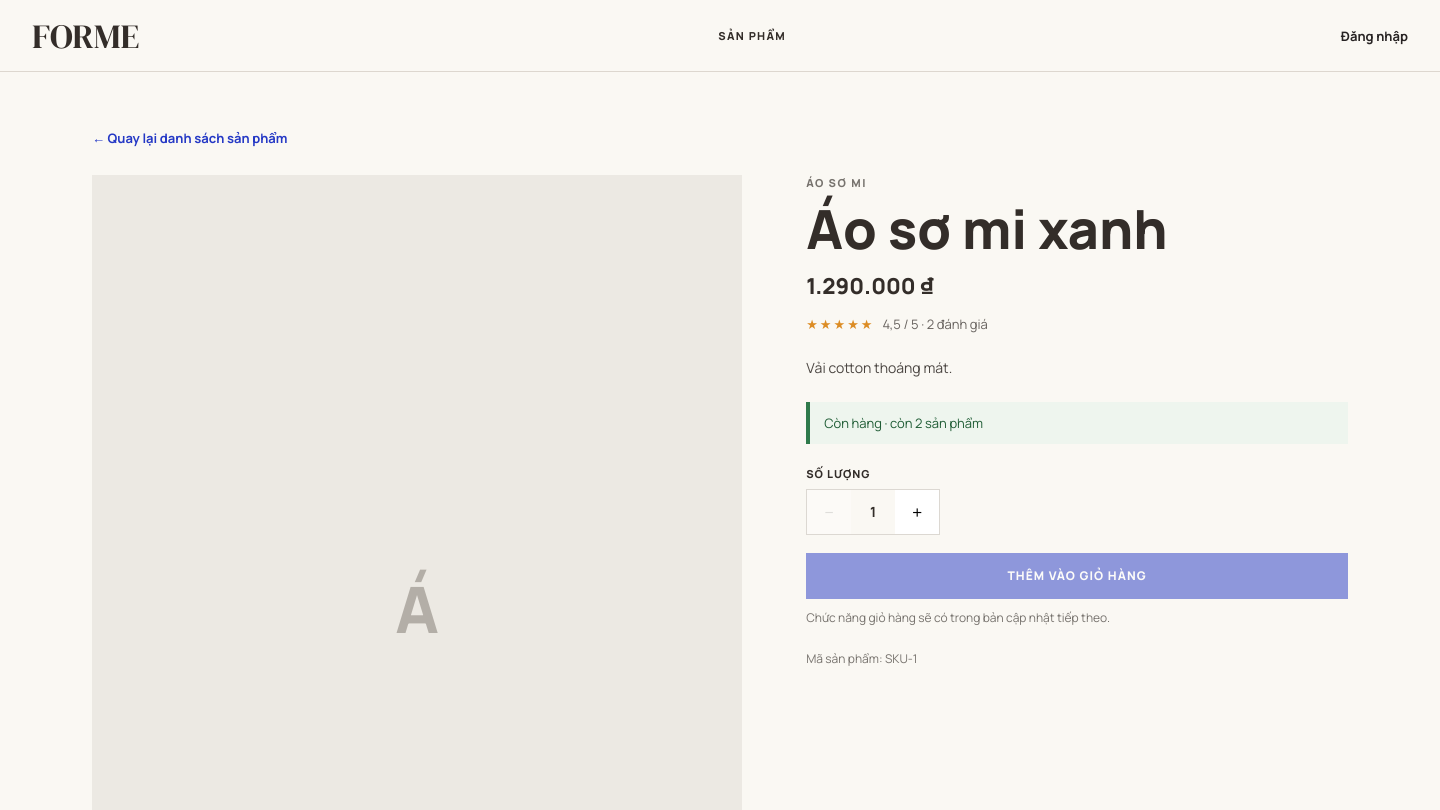
Test: ProductDetailPage › limits the quantity to available stock
The image size is (1440, 810).
What coordinates should you click on to do the following:
click the button named "Tăng số lượng"
I would click on:
 (917, 512)
Its box is top-left (895, 490), bottom-right (939, 534).
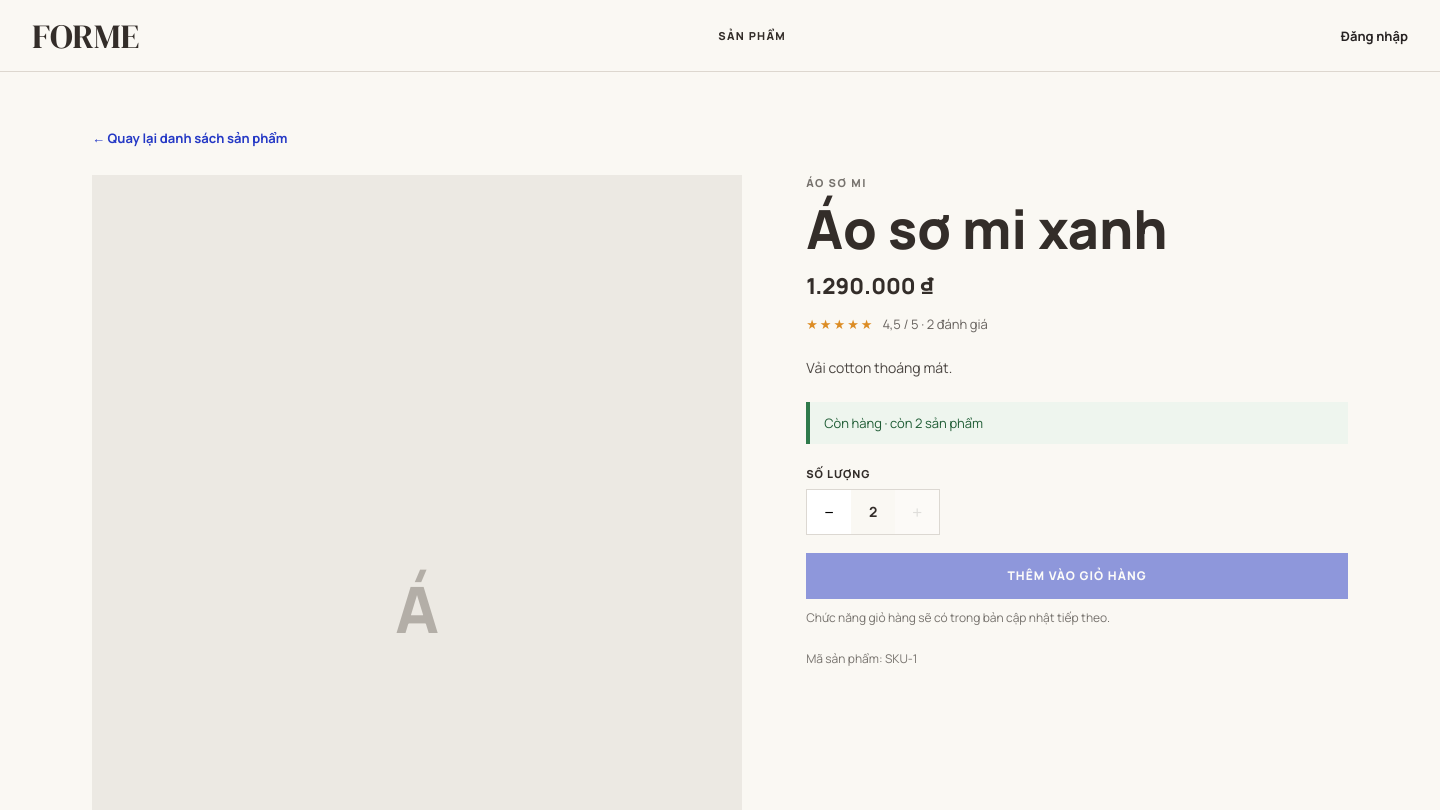
Result: the element named "SỐ LƯỢNG" shows "2" at top-left (869, 502), bottom-right (877, 521)
